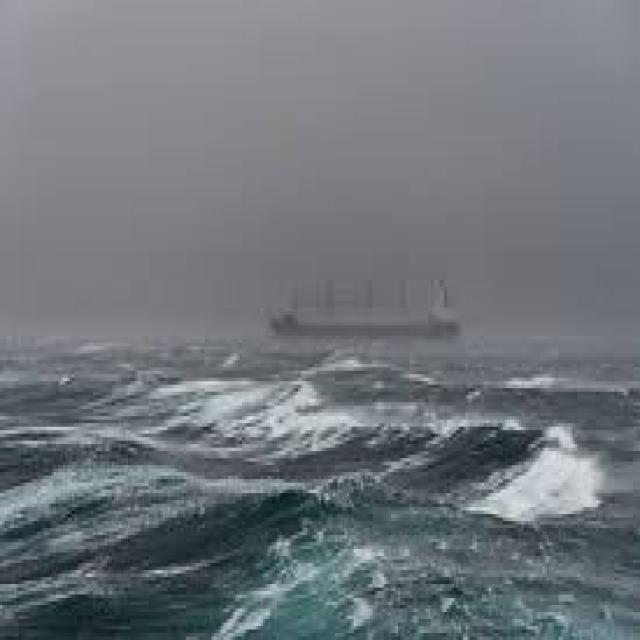cargoship: (261, 266, 464, 343)
